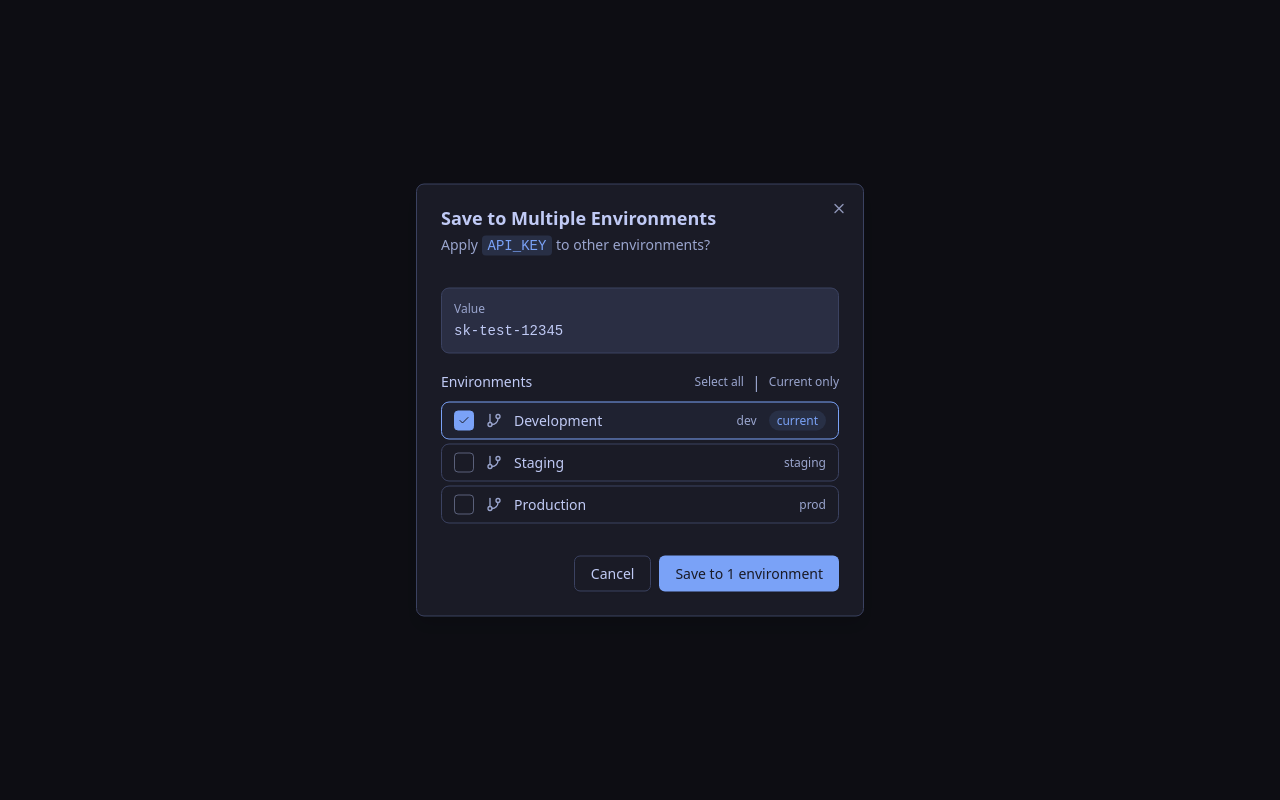
Scenario: MultiEnvSaveModal › current only deselects all except current
The image size is (1280, 800).
// First select all
Click the button "Select all": (719, 382) [695, 370, 744, 394]
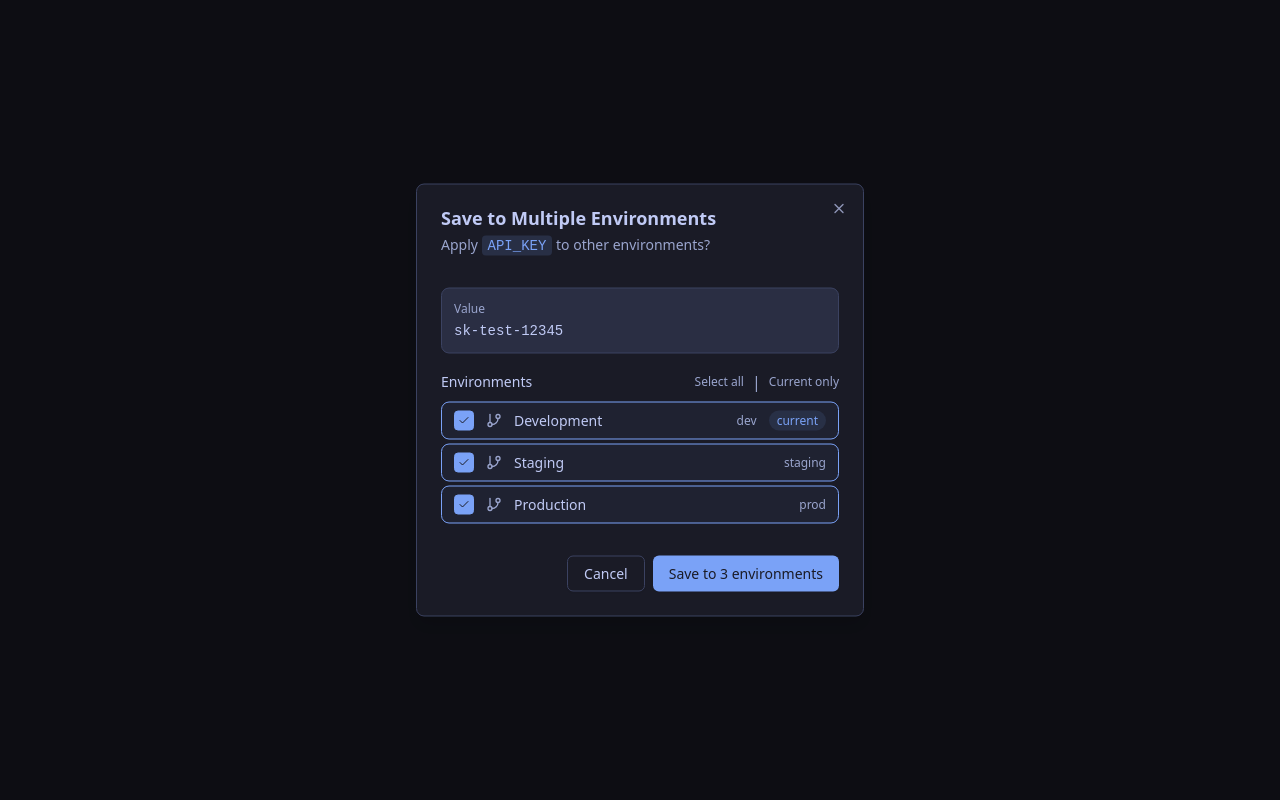
Expected: the button "Save to 3 environments" is shown, [653, 556, 839, 592]
// Then click current only
Click the button "Current only": (804, 382) [769, 370, 839, 394]
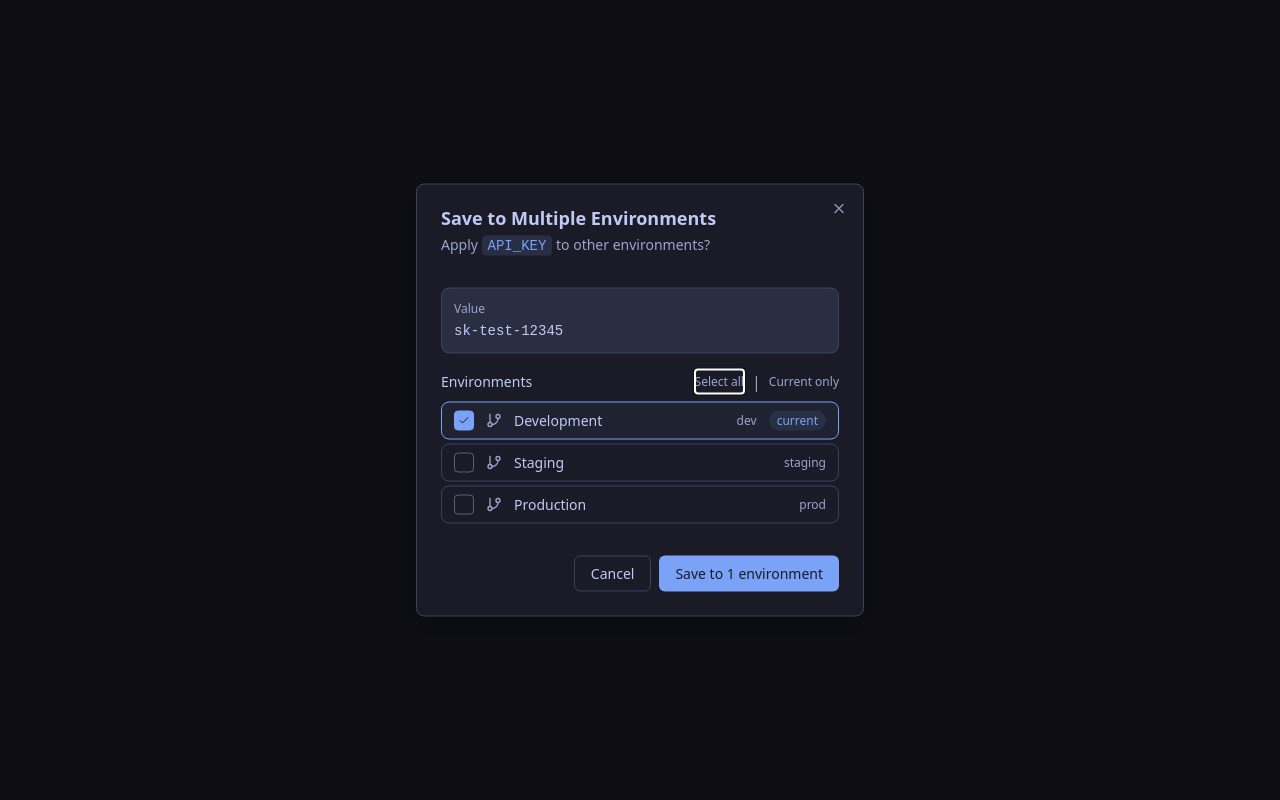
Expected: the button "Save to 1 environment" is shown, [659, 556, 839, 592]
